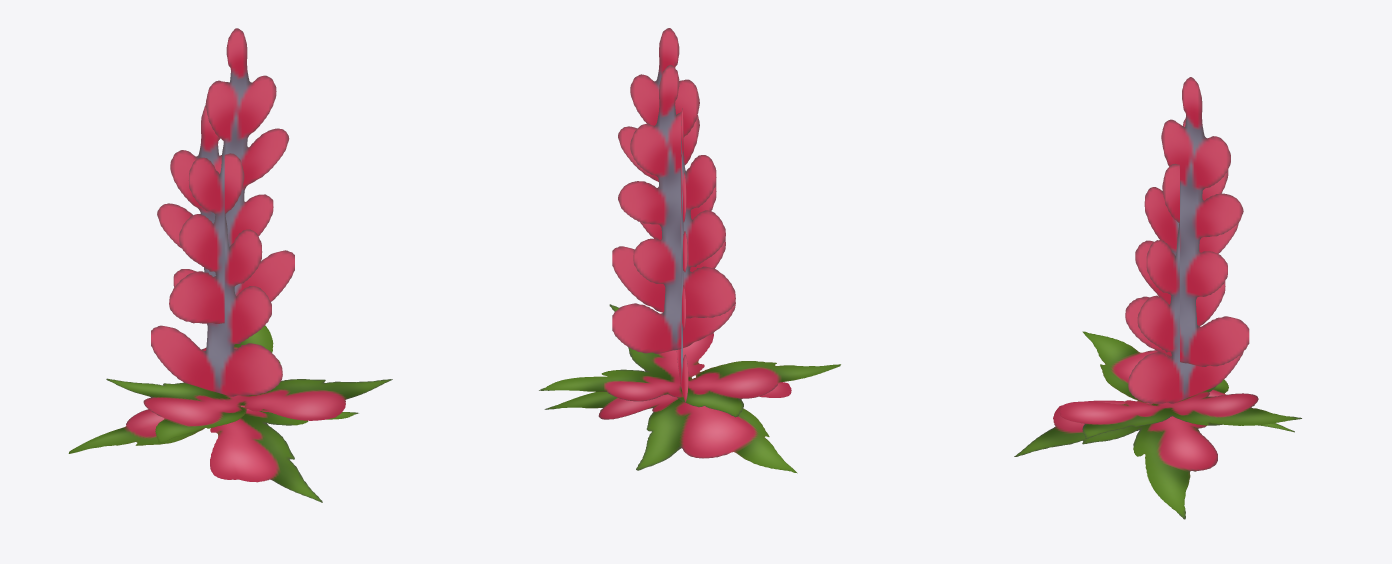
Rendered from Jungle_flower_03.fbx.
3 renders of one model, left to right at view 1: azimuth 30°, elevation 25°; view 2: azimuth 150°, elevation 25°; view 3: azimuth 270°, elevation 25°, orthographic.
Parts seen in each view (by area): view 1: Jungle_flower_03; view 2: Jungle_flower_03; view 3: Jungle_flower_03.
Boxes of the visible parts, bbox=[...] form: Jungle_flower_03: bbox=[68, 28, 392, 502]; Jungle_flower_03: bbox=[539, 28, 840, 473]; Jungle_flower_03: bbox=[1014, 77, 1301, 519].
Size of the model in its own units: 63.89 by 70.04 by 63.89.
